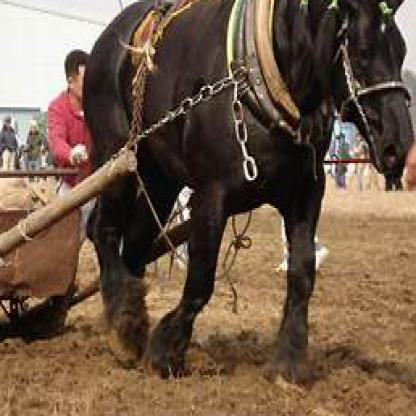horse: (80, 0, 415, 378)
